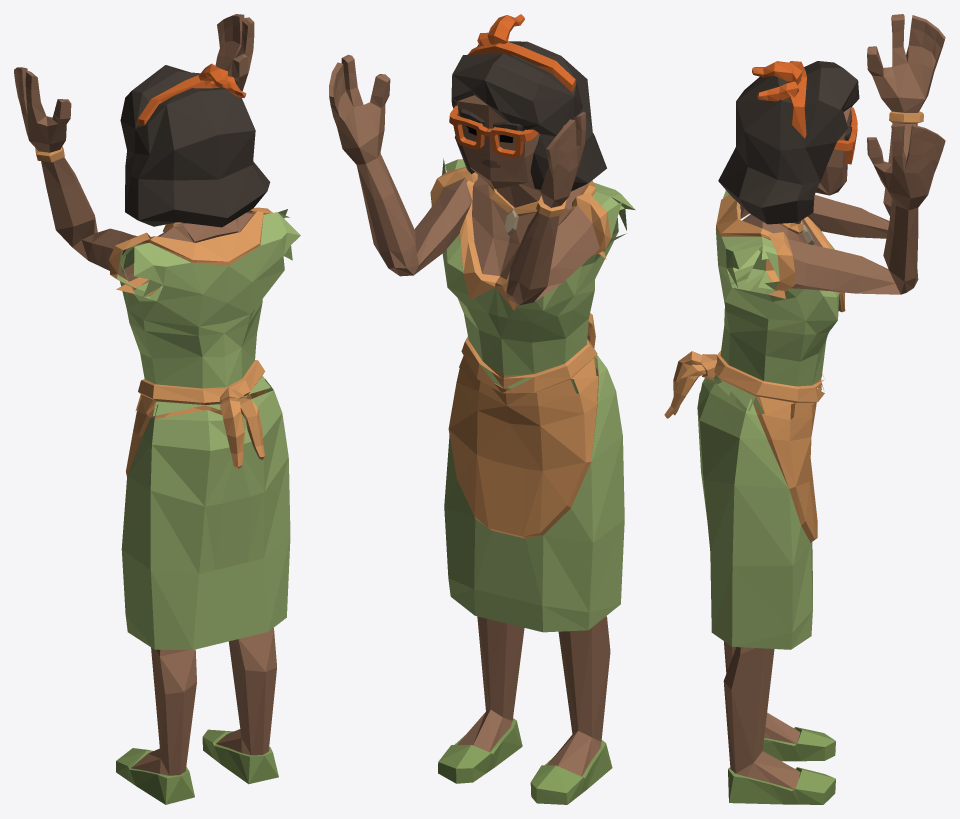
File: Demon_Mother_01_fists.obj
The picture shows the model from 3 angles, left to right: view 1: azimuth 30°, elevation 25°; view 2: azimuth 150°, elevation 25°; view 3: azimuth 270°, elevation 25°; orthographic projection. The views are drawn at different scales.
Visible parts, largest first — view 1: Demon_Mother_01_fists; view 2: Demon_Mother_01_fists; view 3: Demon_Mother_01_fists.
Part boxes in pixels (x1=…): Demon_Mother_01_fists: x1=14, y1=14, x2=300, y2=804; Demon_Mother_01_fists: x1=329, y1=14, x2=635, y2=804; Demon_Mother_01_fists: x1=664, y1=14, x2=945, y2=804.
Size of the model in its own units: 0.6235 by 1.86 by 0.6569.
1 material, 1 textured.
